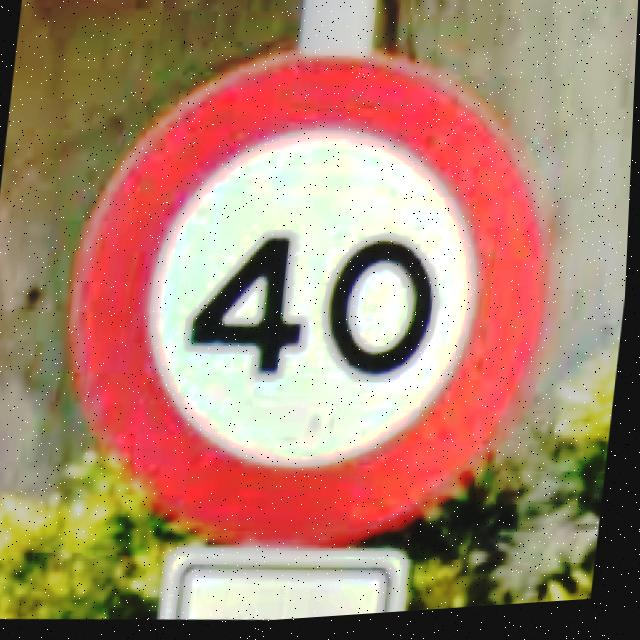max40: (43, 19, 587, 580)
